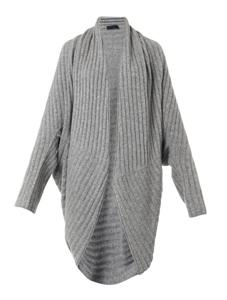C_cardigan sweater: (21, 22, 206, 283)
